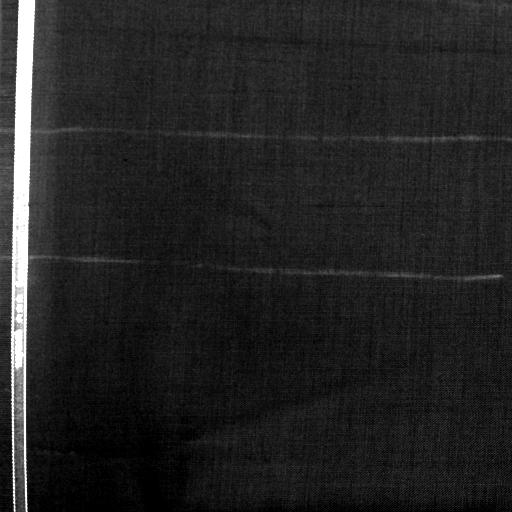fabric_broken_pick: (288, 194, 396, 224)
